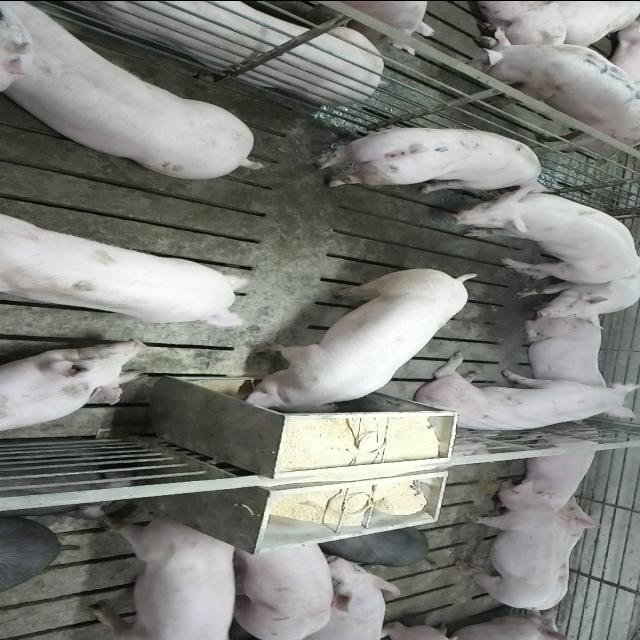Feeding: (238, 270, 478, 420)
Sitting: (412, 354, 636, 436), (508, 273, 638, 321)
Standing: (5, 6, 266, 184), (0, 197, 250, 327), (449, 22, 640, 150), (84, 516, 238, 638), (311, 125, 549, 196), (451, 478, 563, 611), (494, 185, 638, 283), (230, 538, 336, 638)
Sternal_lying: (58, 0, 450, 102), (0, 341, 148, 436), (508, 428, 604, 507), (518, 315, 610, 394)
